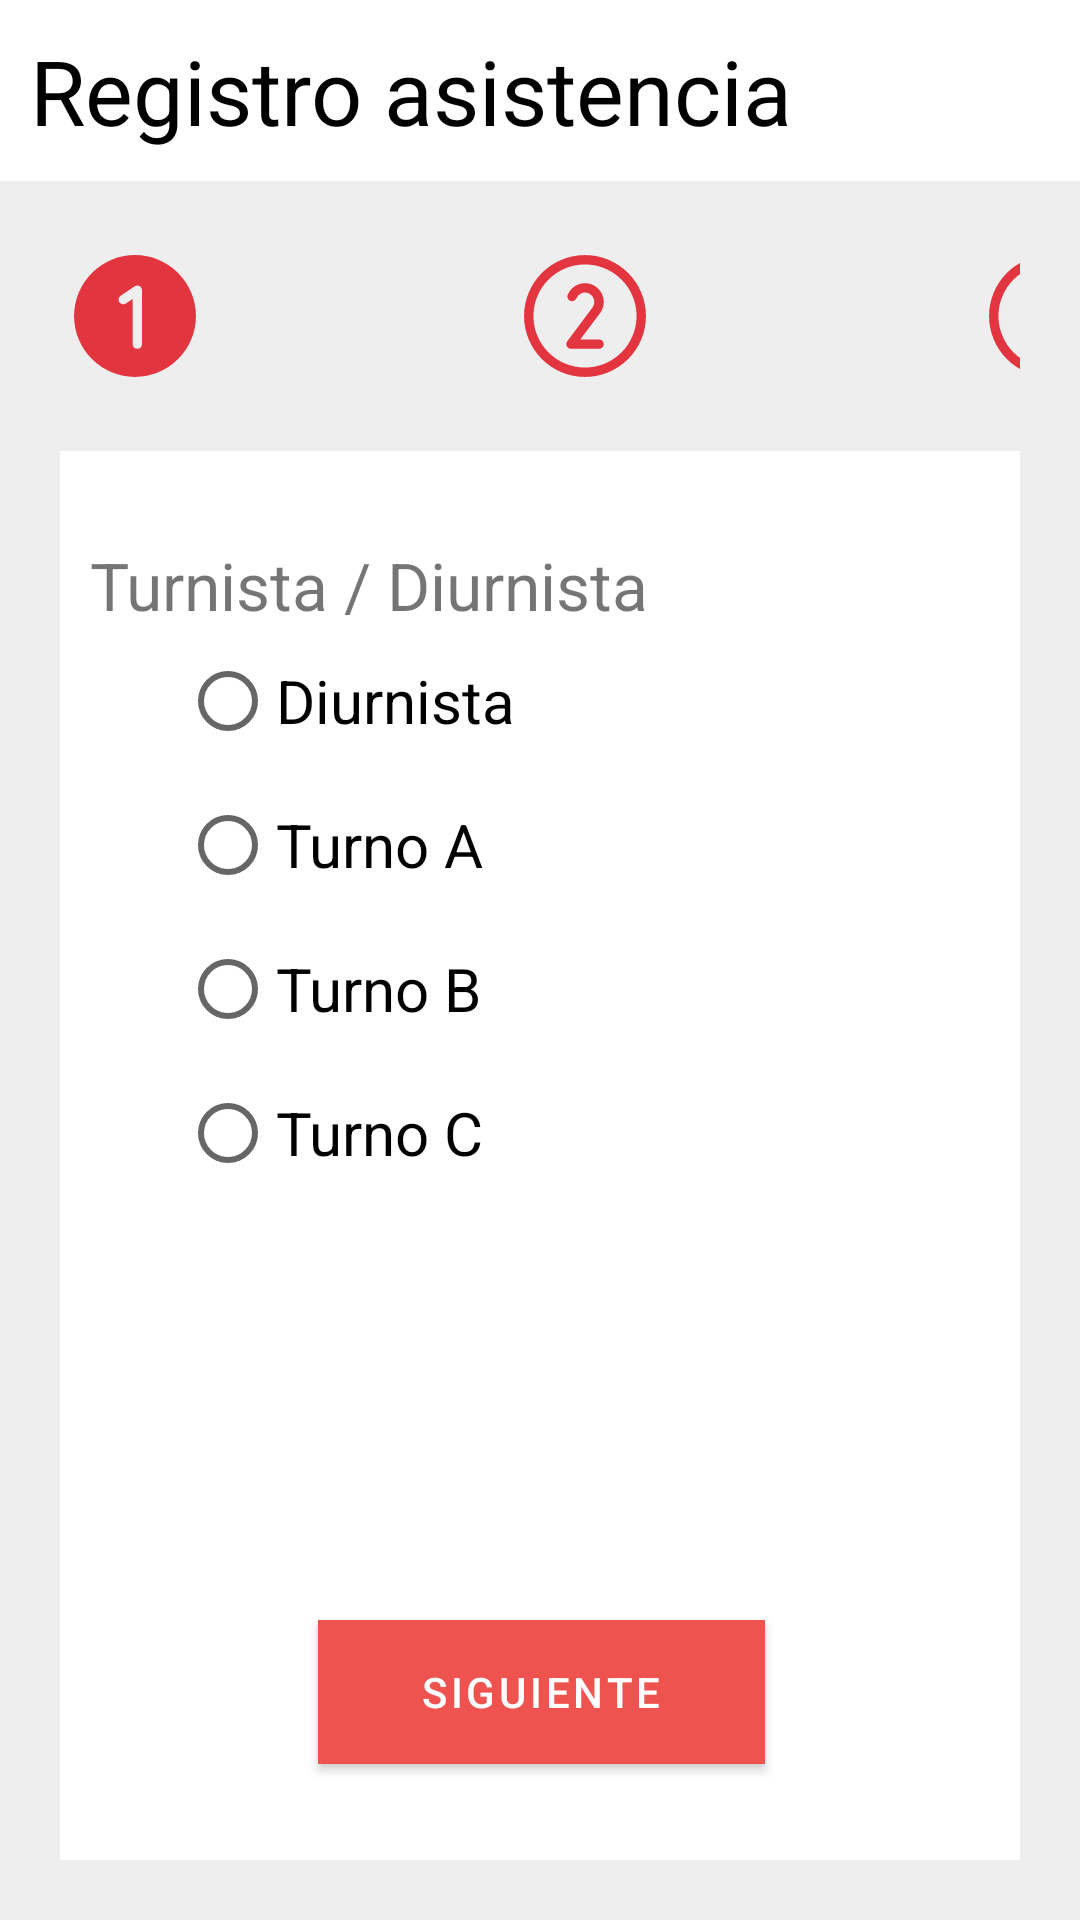

Icons on this 1080*1920 Android screen, each with the point to tap as [x,y]:
numberoneback: [135,316]
numbertwoback: [585,316]
